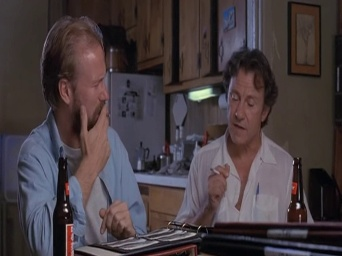smoke: (209, 166, 222, 176)
